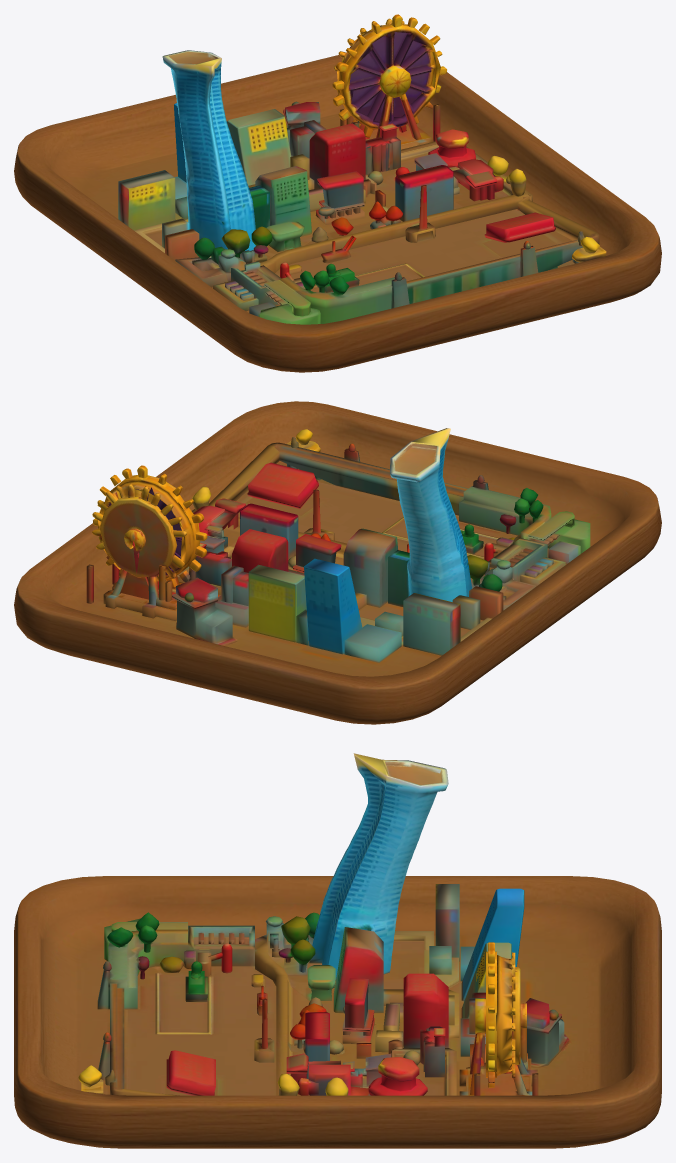
File: yokohama.glb
3 views of the same model, one above another, from view 1: azimuth 30°, elevation 25°; view 2: azimuth 150°, elevation 25°; view 3: azimuth 270°, elevation 25° (orthographic). The views are drawn at different scales.
Parts seen in each view (by area): view 1: tripo_node_b0970055-0799-47ec-8d0f-c9abaa5bac2c; view 2: tripo_node_b0970055-0799-47ec-8d0f-c9abaa5bac2c; view 3: tripo_node_b0970055-0799-47ec-8d0f-c9abaa5bac2c.
Part boxes in pixels (box(x1,y1,x2,y2)): tripo_node_b0970055-0799-47ec-8d0f-c9abaa5bac2c: box(14, 14, 661, 372); tripo_node_b0970055-0799-47ec-8d0f-c9abaa5bac2c: box(14, 401, 661, 724); tripo_node_b0970055-0799-47ec-8d0f-c9abaa5bac2c: box(14, 753, 661, 1148).
Bounding box in the file's own units: 0.8443 × 0.3882 × 0.9995.
Materials: 1 (1 with a texture image).
